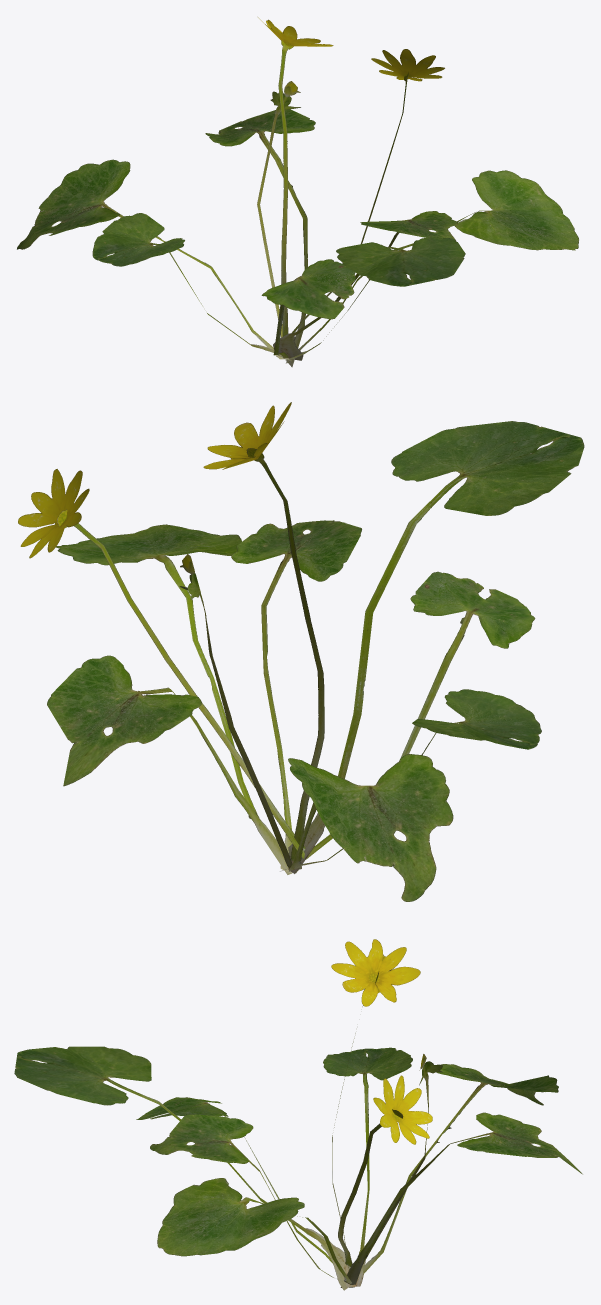
Rendered from celandine_01_d.gltf.
3 views of the same model, one above another, from view 1: azimuth 30°, elevation 25°; view 2: azimuth 150°, elevation 25°; view 3: azimuth 270°, elevation 25° (orthographic). The views are drawn at different scales.
Visible parts, largest first — view 1: celandine_01_d__x; view 2: celandine_01_d__x; view 3: celandine_01_d__x.
Part boxes in pixels (x1=…): celandine_01_d__x: x1=17, y1=17, x2=578, y2=367; celandine_01_d__x: x1=18, y1=402, x2=584, y2=901; celandine_01_d__x: x1=14, y1=939, x2=582, y2=1290.
Bounding box in the file's own units: 0.1877 × 0.1506 × 0.2227.
Materials: 1 (1 with a texture image).
